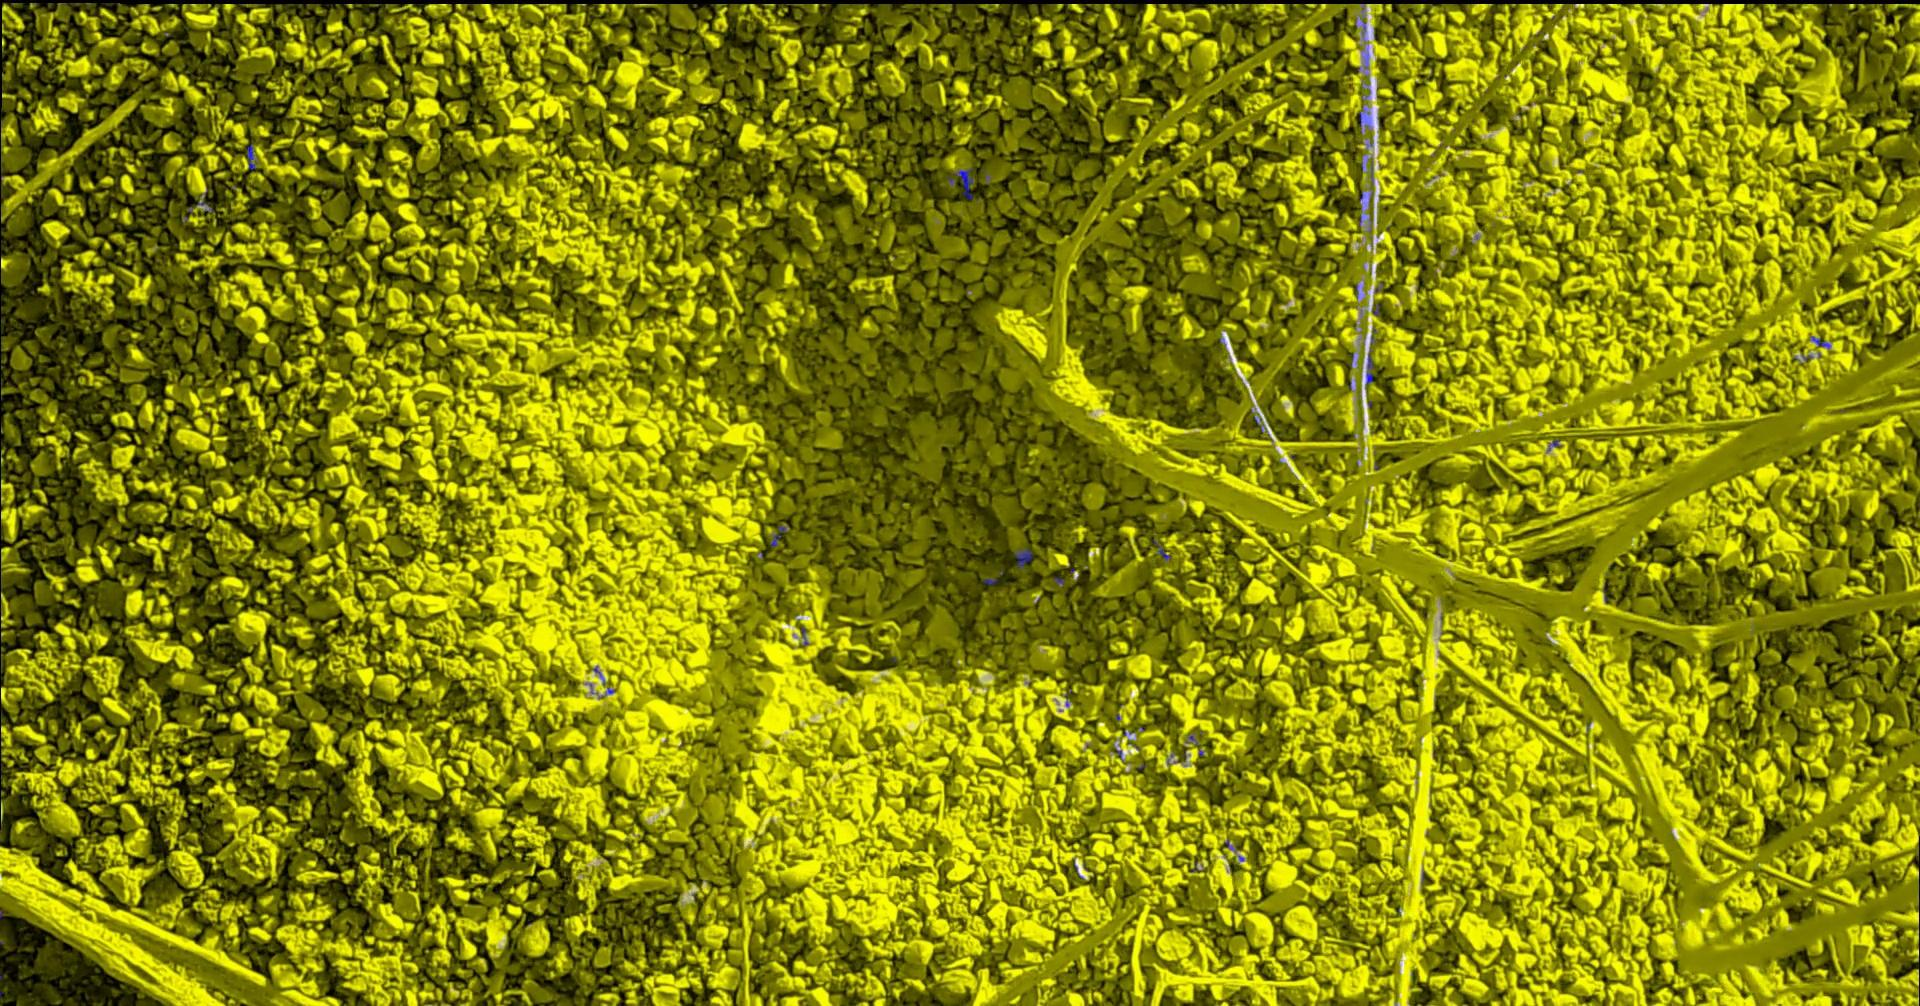ant: (947, 166, 973, 199), (1150, 535, 1170, 560), (1013, 547, 1032, 568), (770, 525, 785, 546), (1365, 348, 1373, 384), (246, 144, 255, 169)
